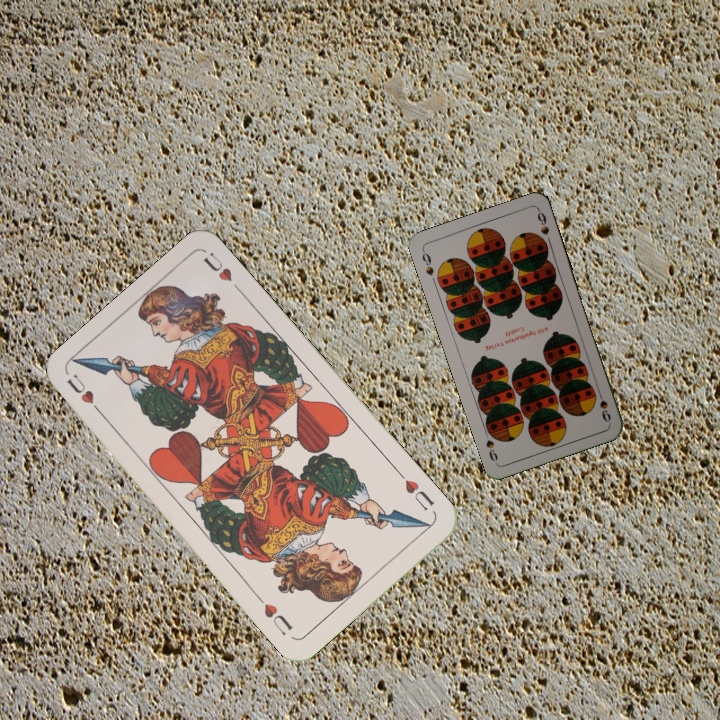HU: (62, 370, 107, 420), (394, 467, 437, 514)
S9: (593, 385, 613, 425), (418, 246, 436, 278)
